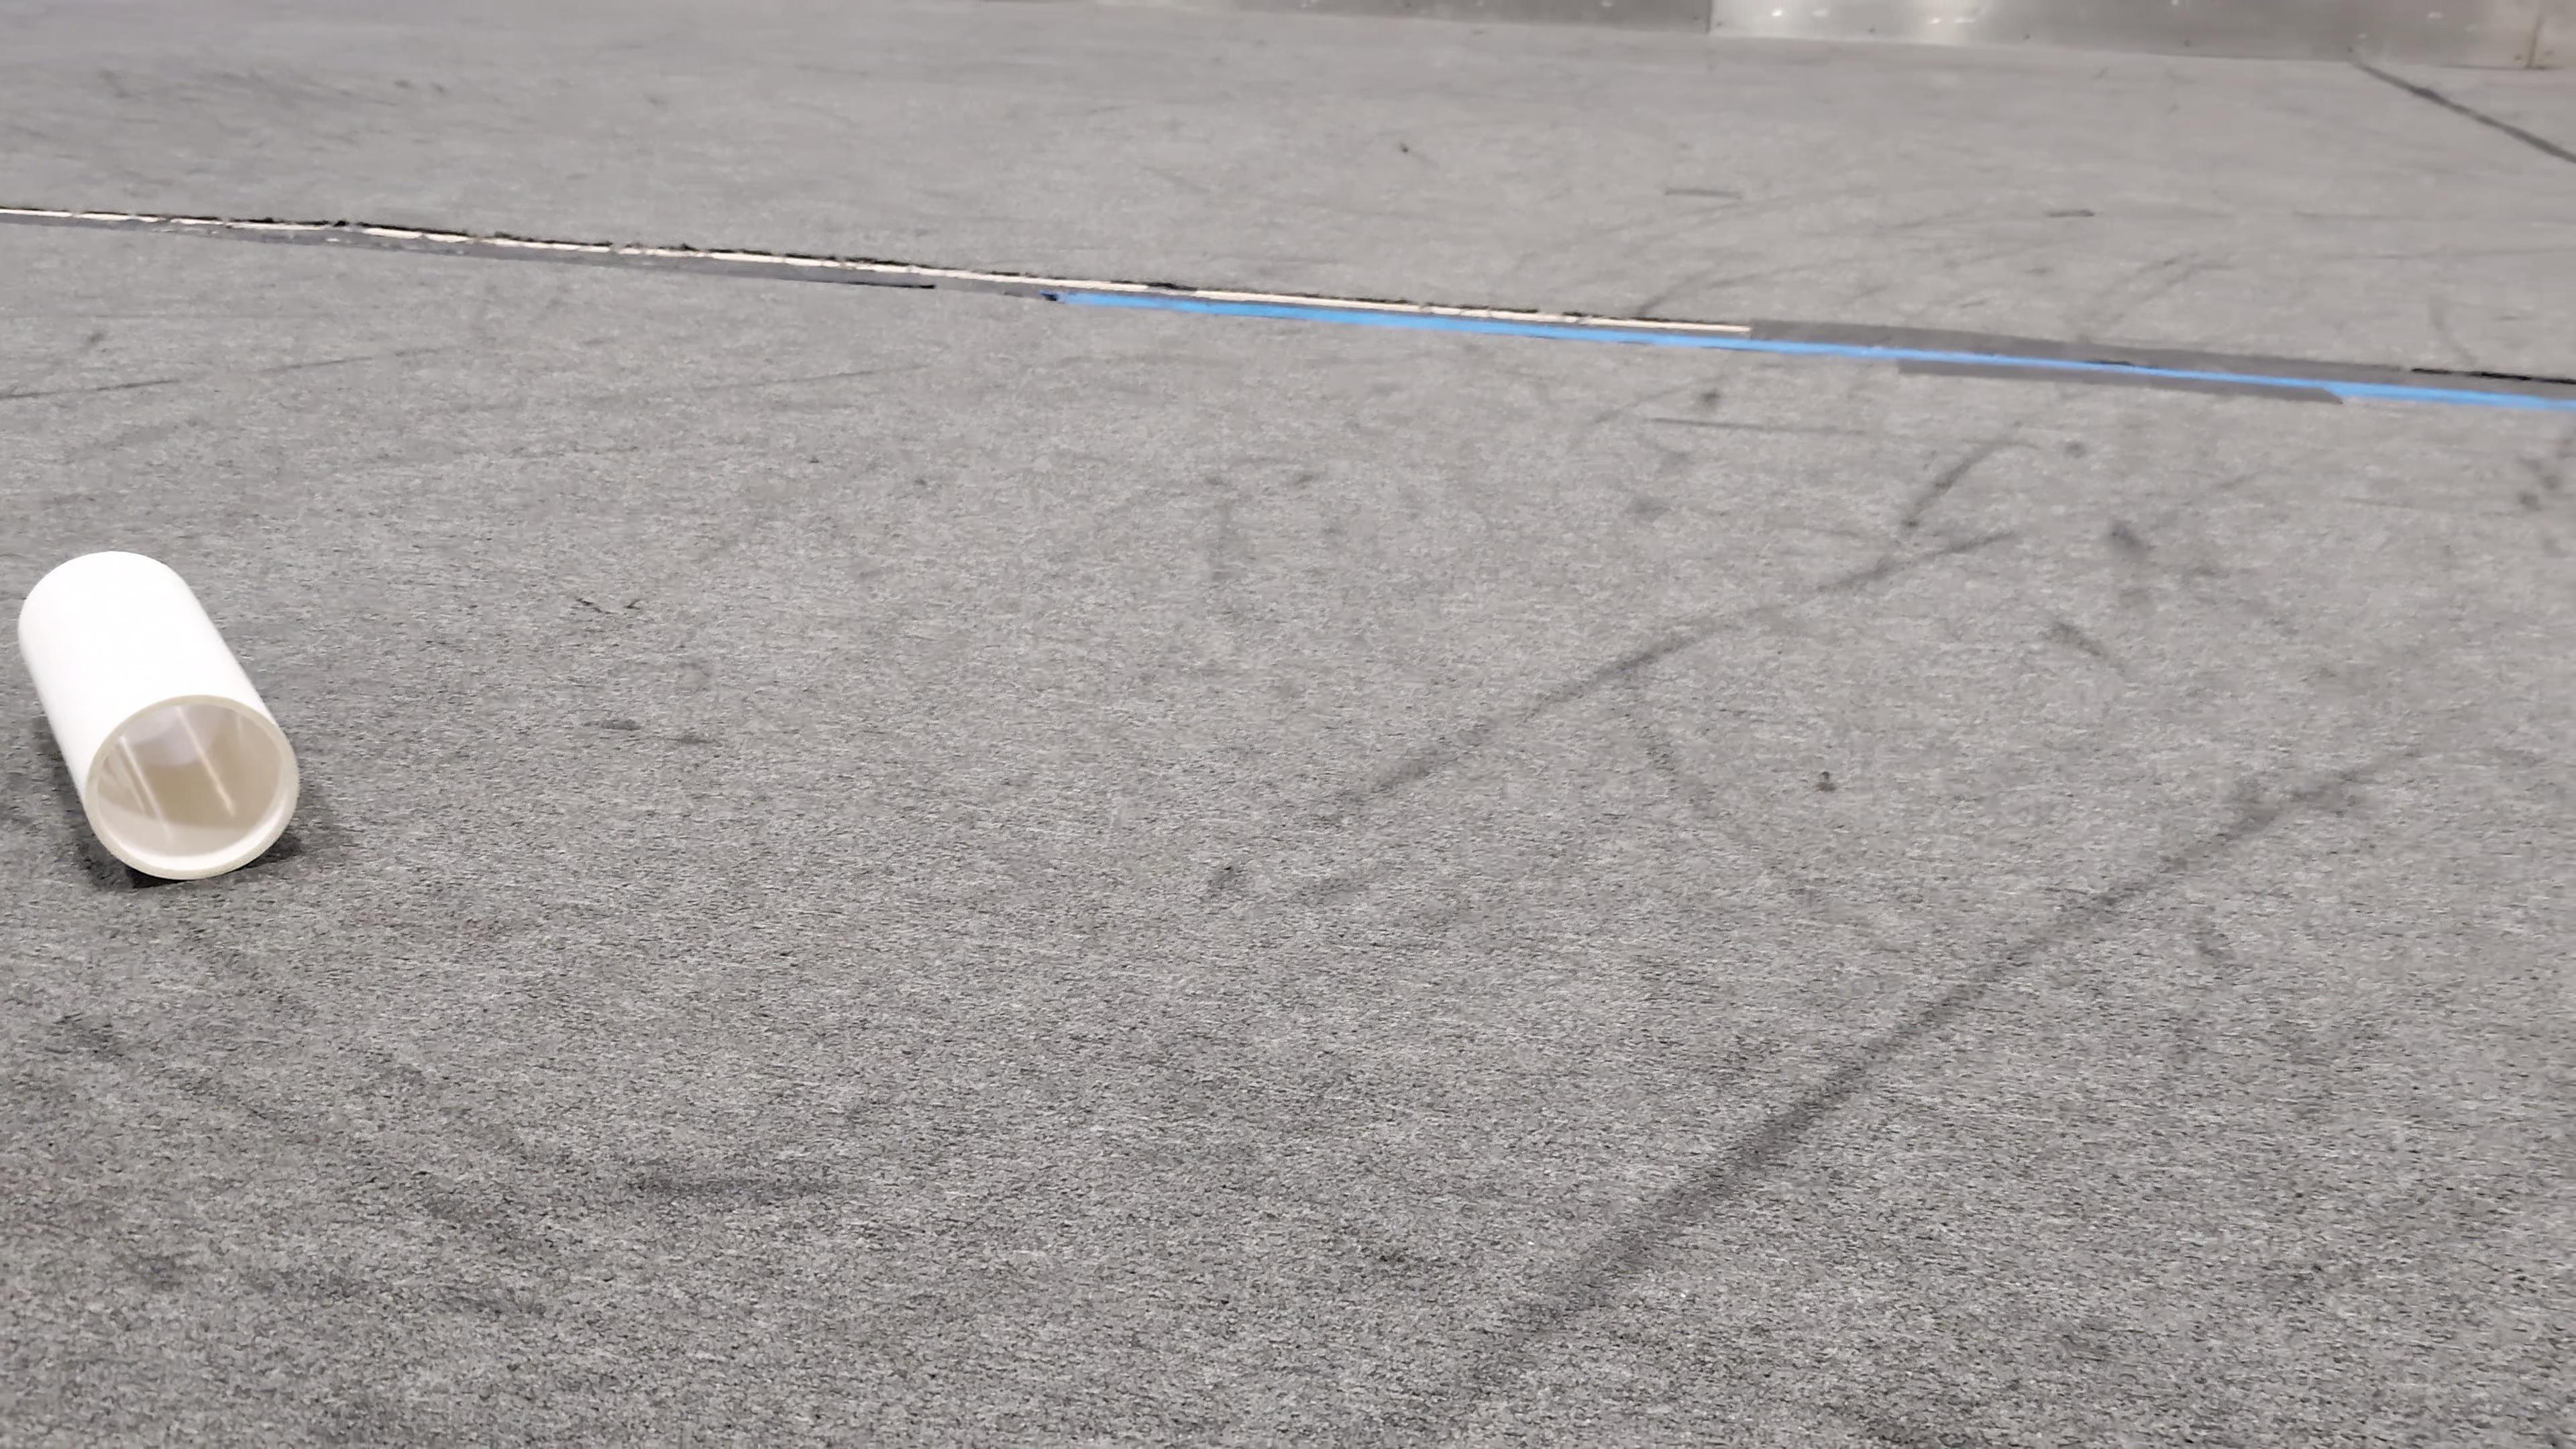coral: (14, 547, 303, 881)
